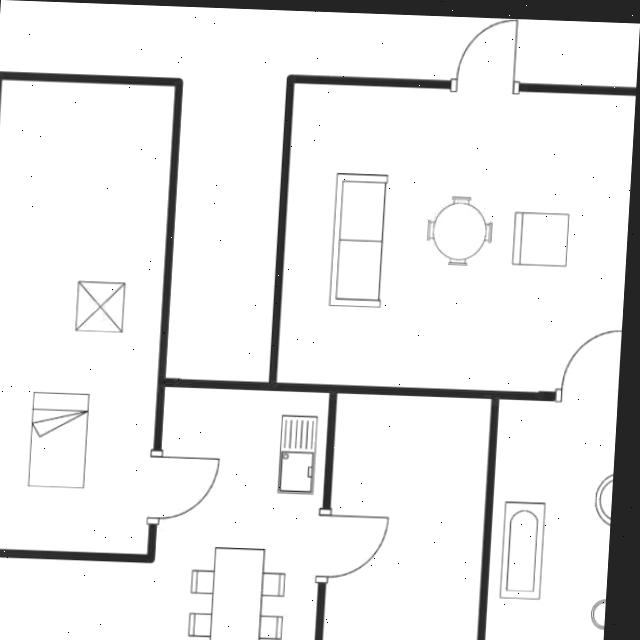room: (277, 84, 636, 394), (0, 387, 328, 640), (0, 80, 174, 555), (485, 396, 617, 640)
